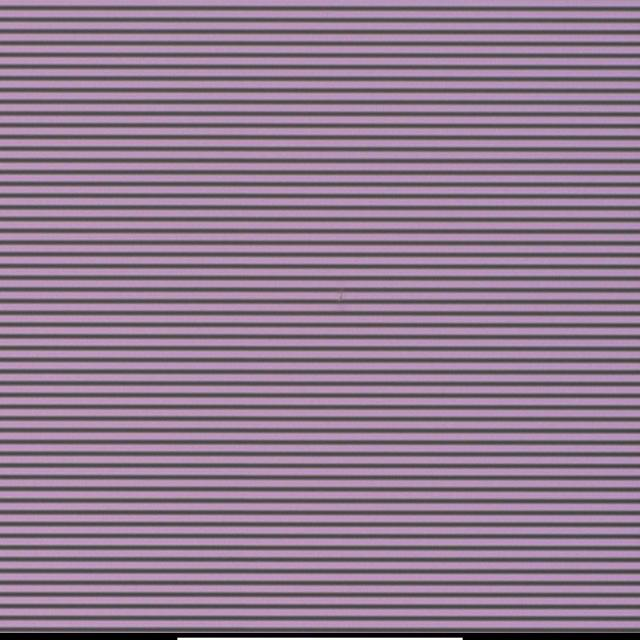nonvisual: (333, 287, 348, 306)
